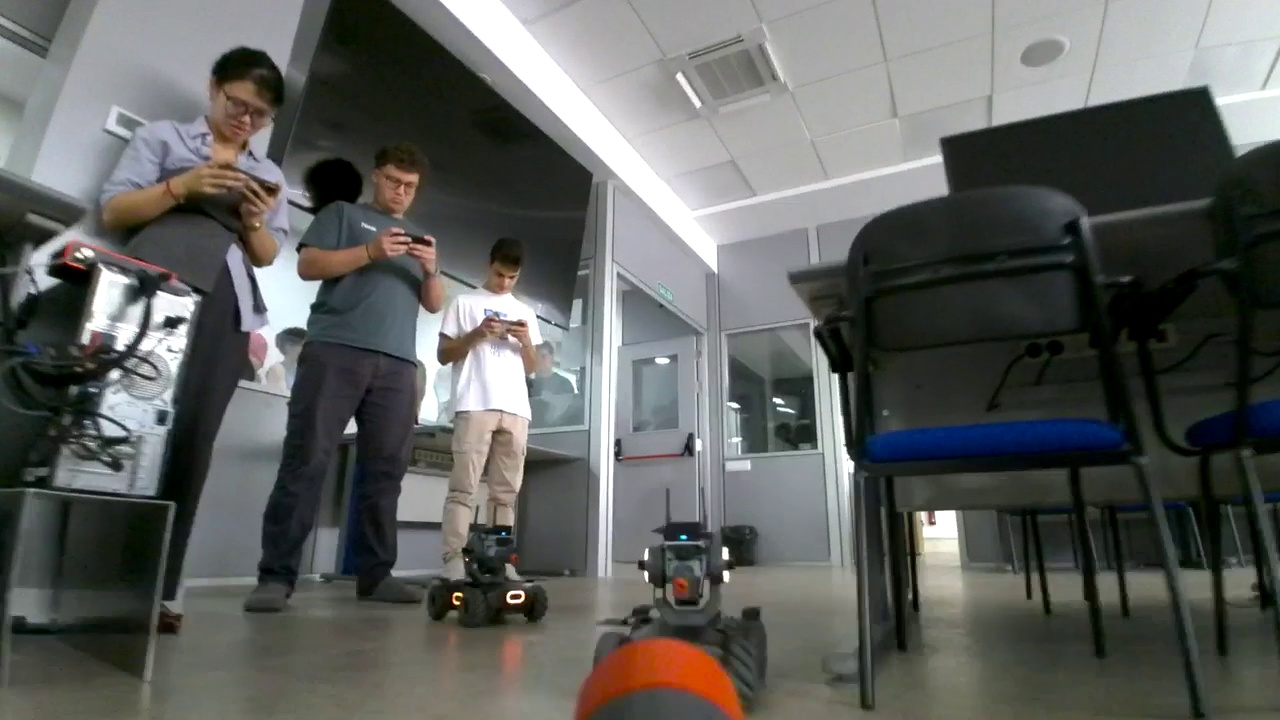robot: (593, 488, 768, 715), (428, 504, 548, 624)
